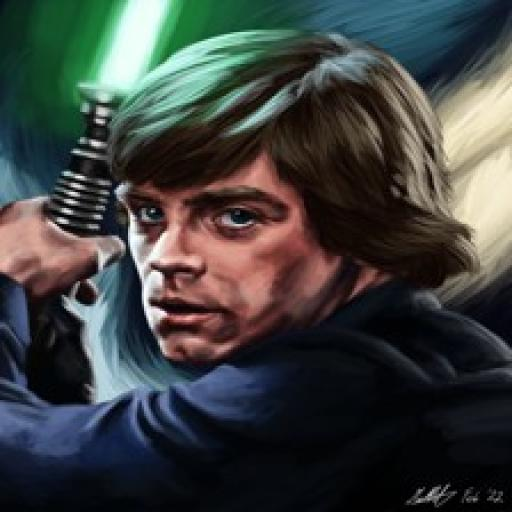human: (3, 28, 511, 512)
lightsaber: (11, 0, 187, 354)
